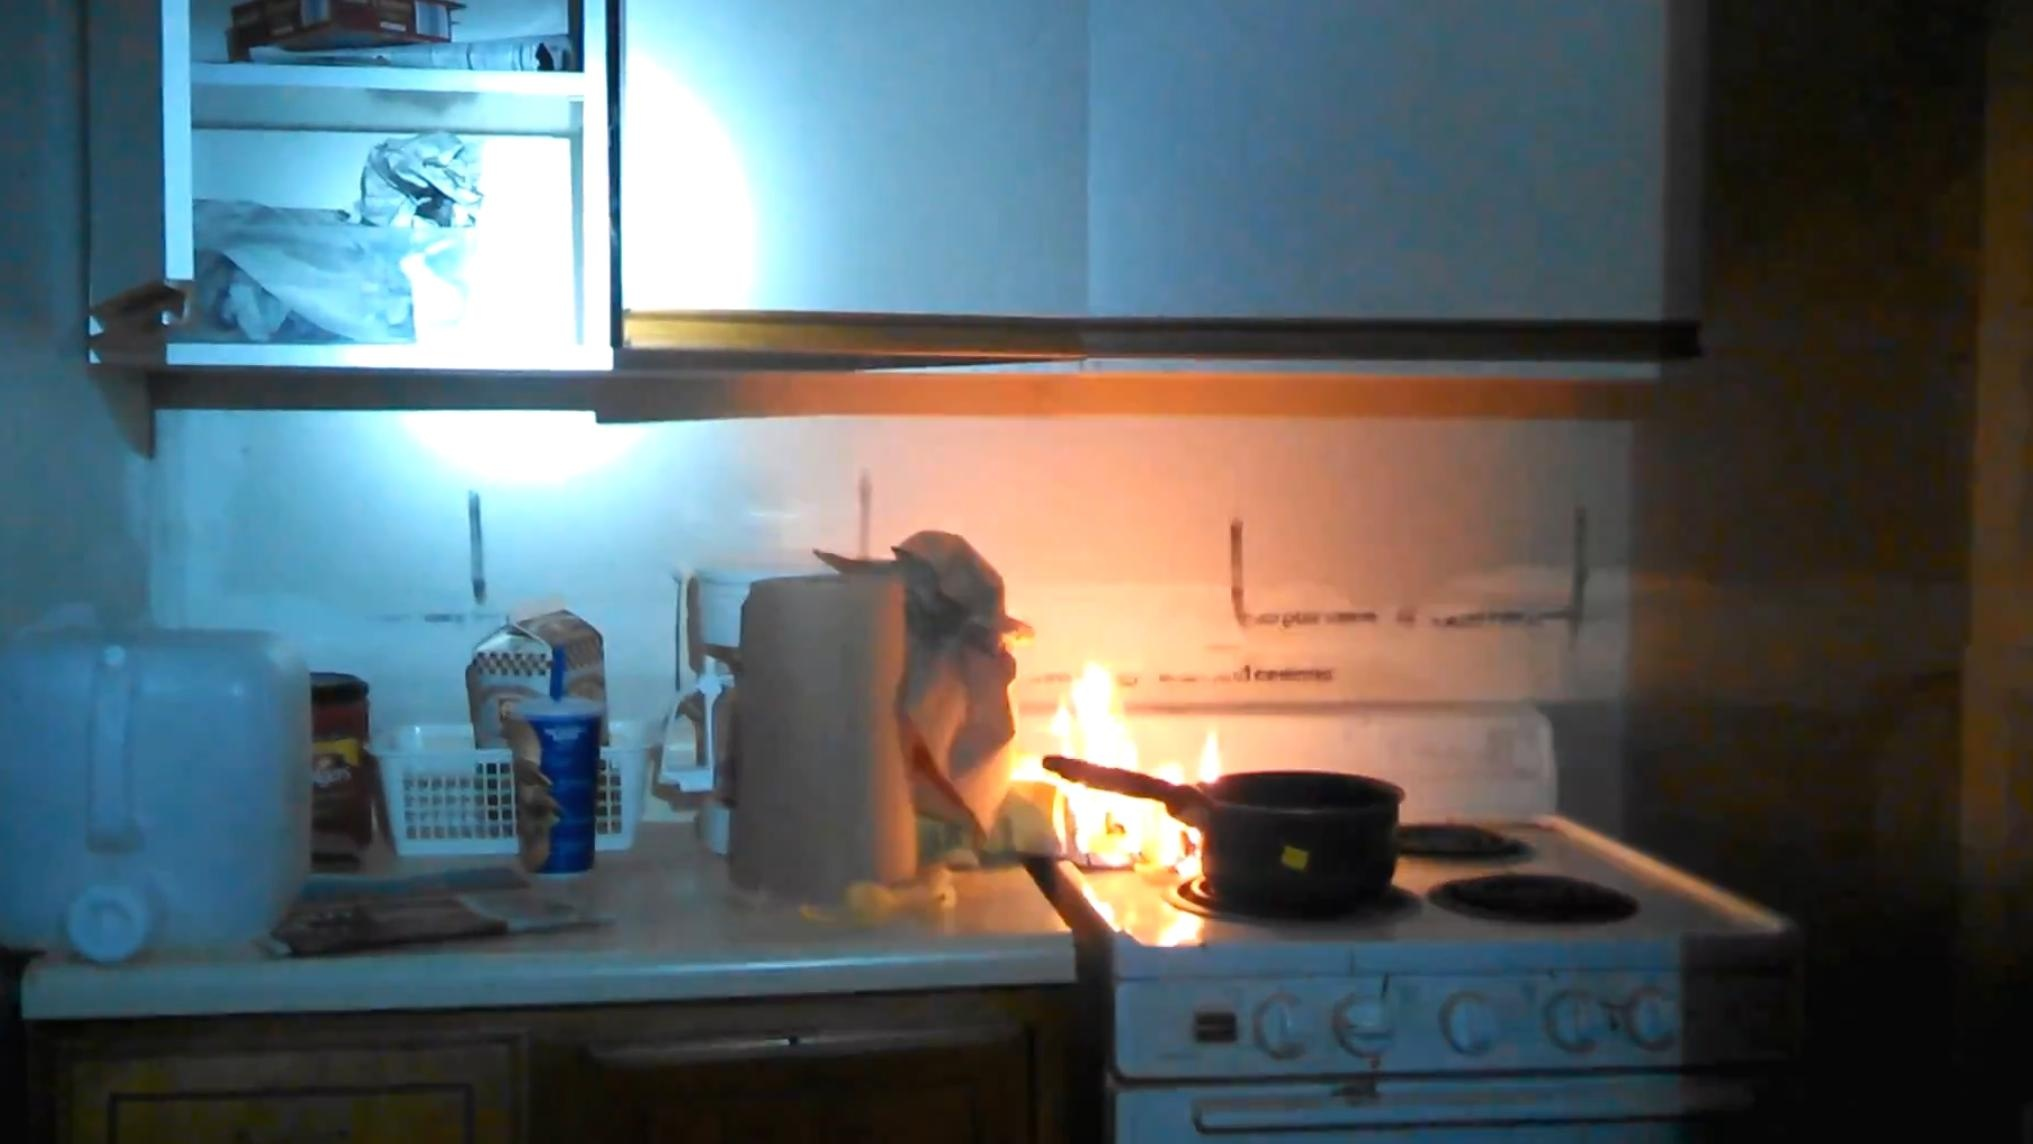fire: (994, 647, 1218, 939)
